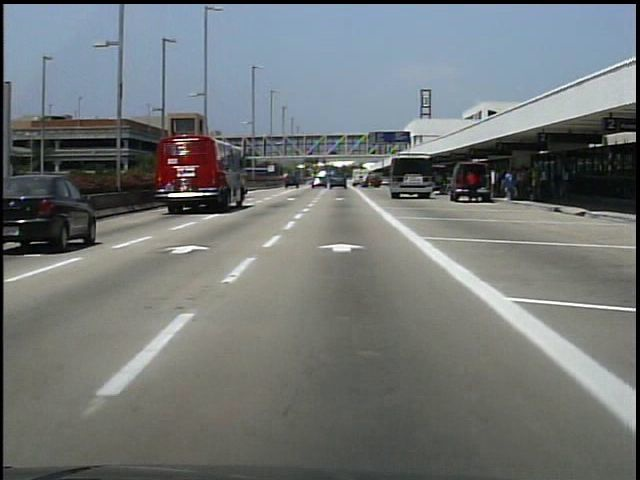person: (465, 165, 481, 204)
